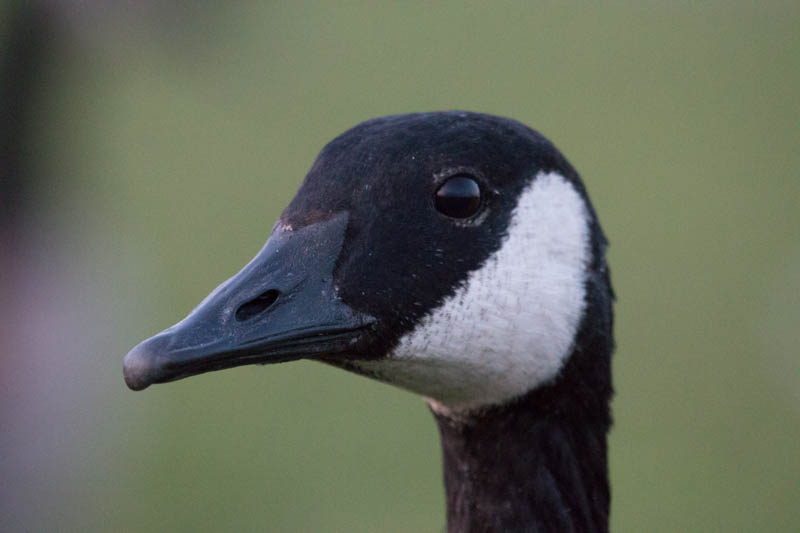goose-head: (121, 111, 614, 417)
